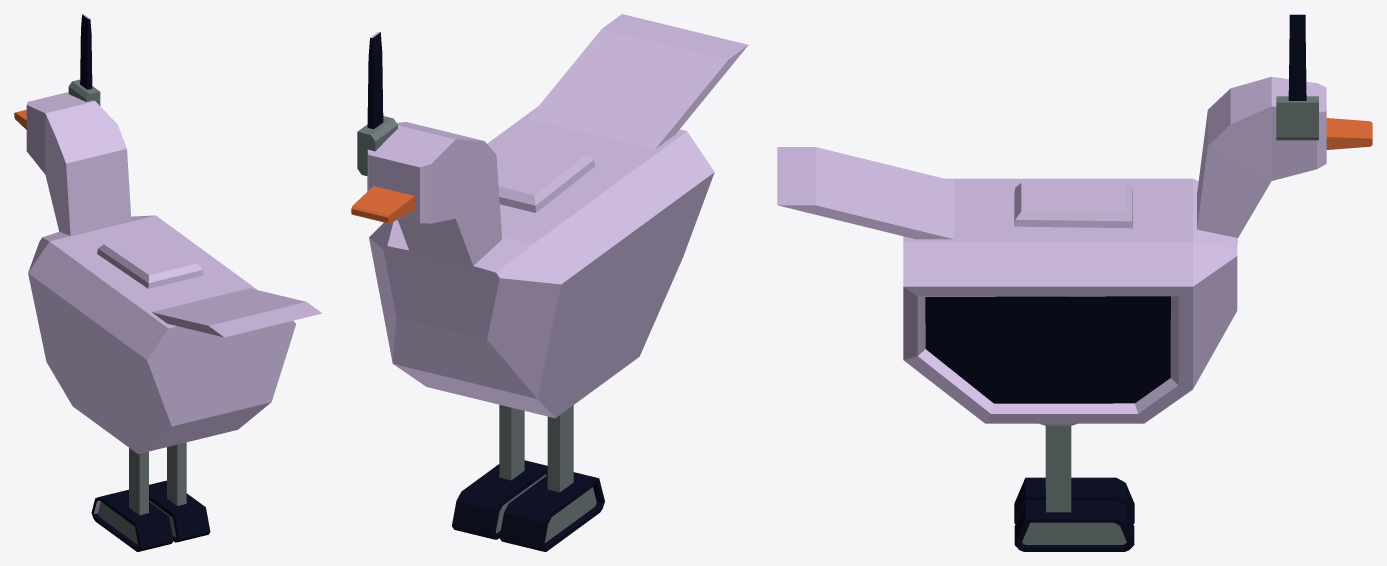
The model's file is duck.fbx.
The picture shows the model from 3 angles, left to right: view 1: azimuth 30°, elevation 25°; view 2: azimuth 150°, elevation 25°; view 3: azimuth 270°, elevation 25°; orthographic projection. The views are drawn at different scales.
Visible parts, largest first — view 1: Cube; view 2: Cube; view 3: Cube.
Part boxes in pixels (x1=…): Cube: x1=14, y1=14, x2=322, y2=551; Cube: x1=351, y1=14, x2=748, y2=551; Cube: x1=777, y1=14, x2=1372, y2=551.
Bounding box in the file's own units: 76.12 × 213 × 216.
